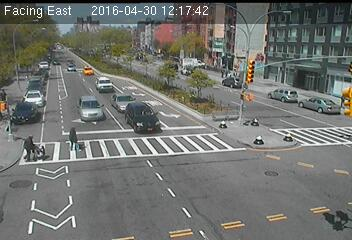neg: (103, 39, 121, 63), (63, 56, 75, 71), (80, 24, 85, 31)
pos: (15, 132, 38, 162), (61, 124, 83, 154)
